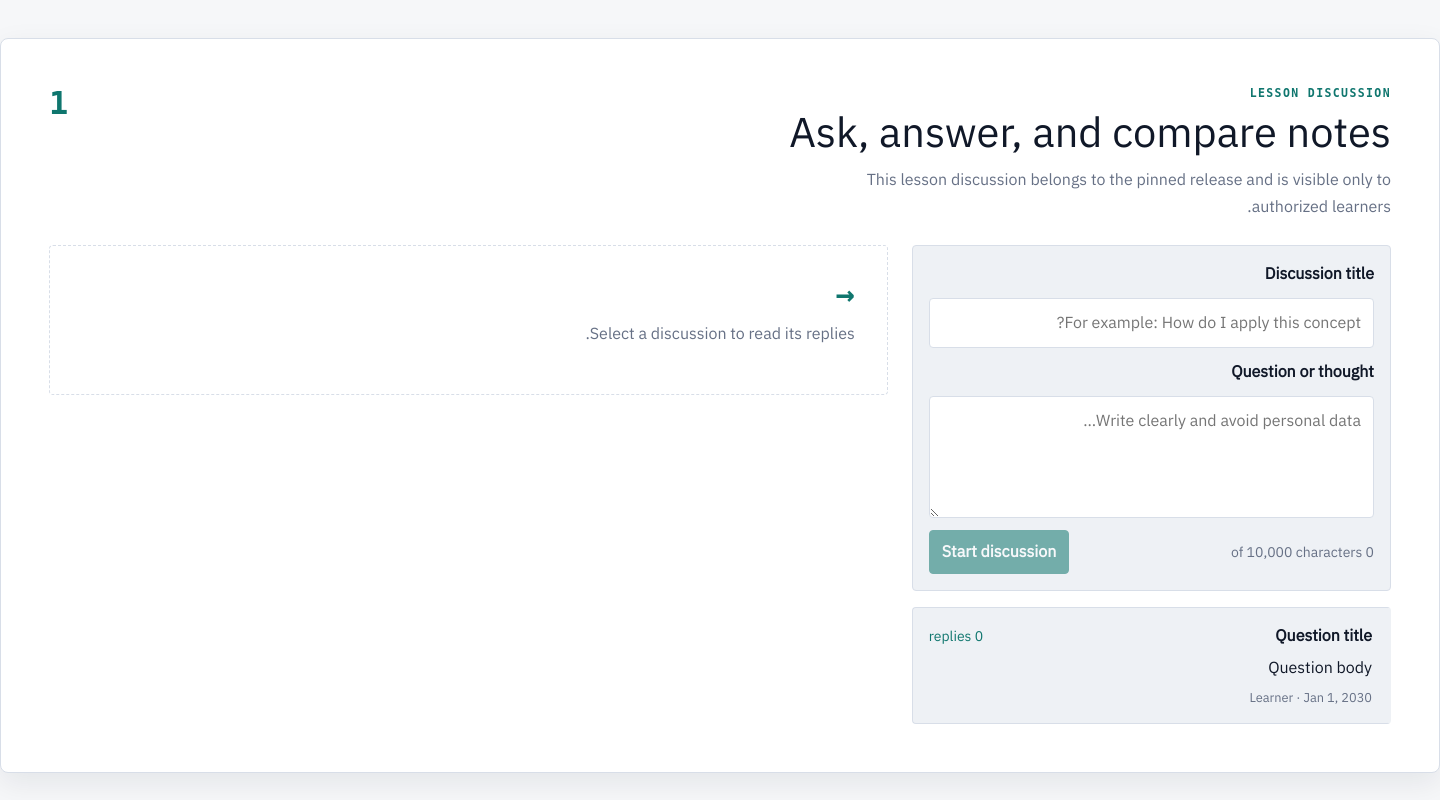
it: LessonDiscussionPanelComponent › renders tombstones without actions and separates edit from delete permissions
Click the button with class "thread-card": (1324, 636) x1=912 y1=607 x2=1391 y2=724
(page scrolled)
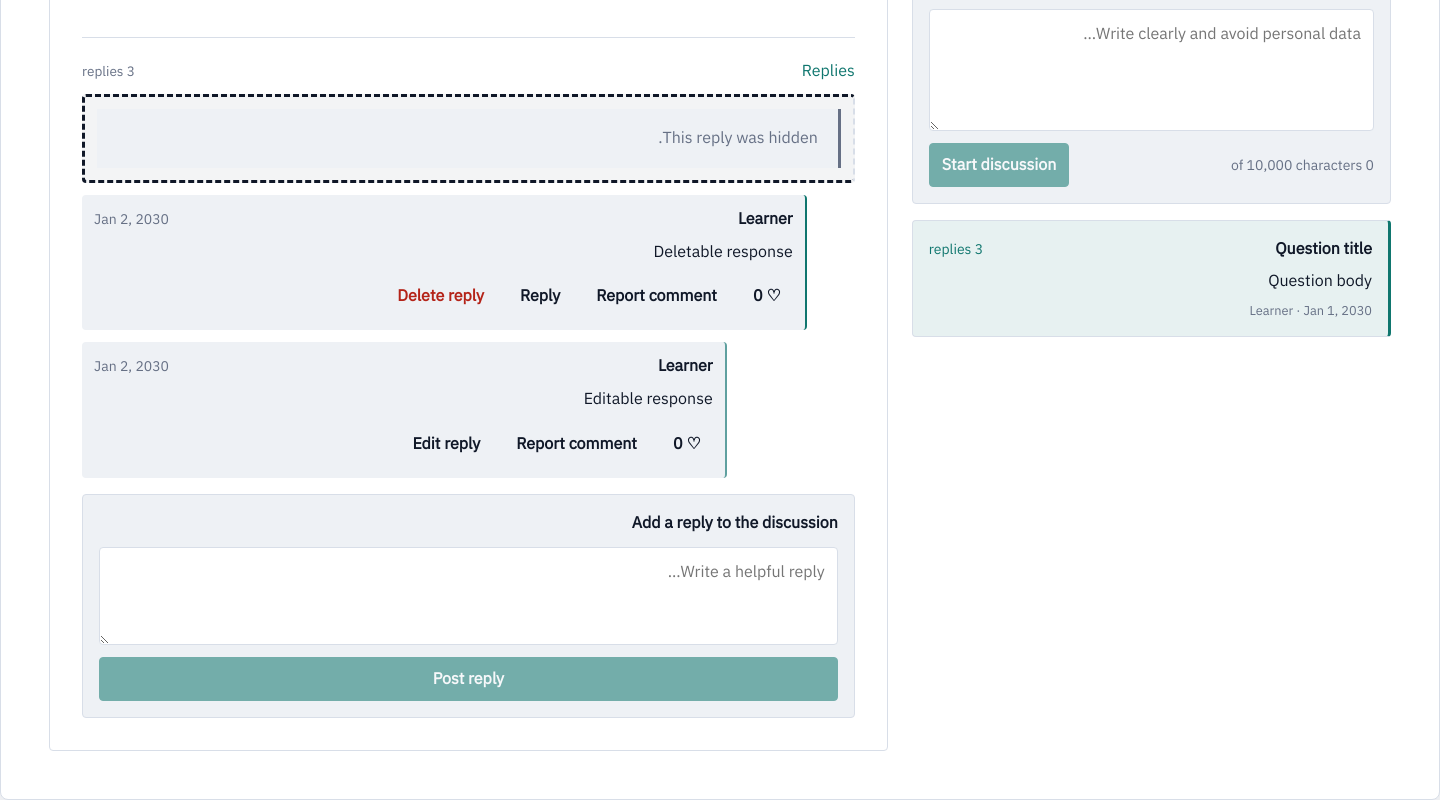
Result: the text "This reply was hidden." is shown at x1=97 y1=109 x2=841 y2=168
Result: the element with class "comment" shows "Reply" at x1=508 y1=274 x2=572 y2=318
Result: the element with class "comment" shows "Delete reply" at x1=385 y1=274 x2=496 y2=318
